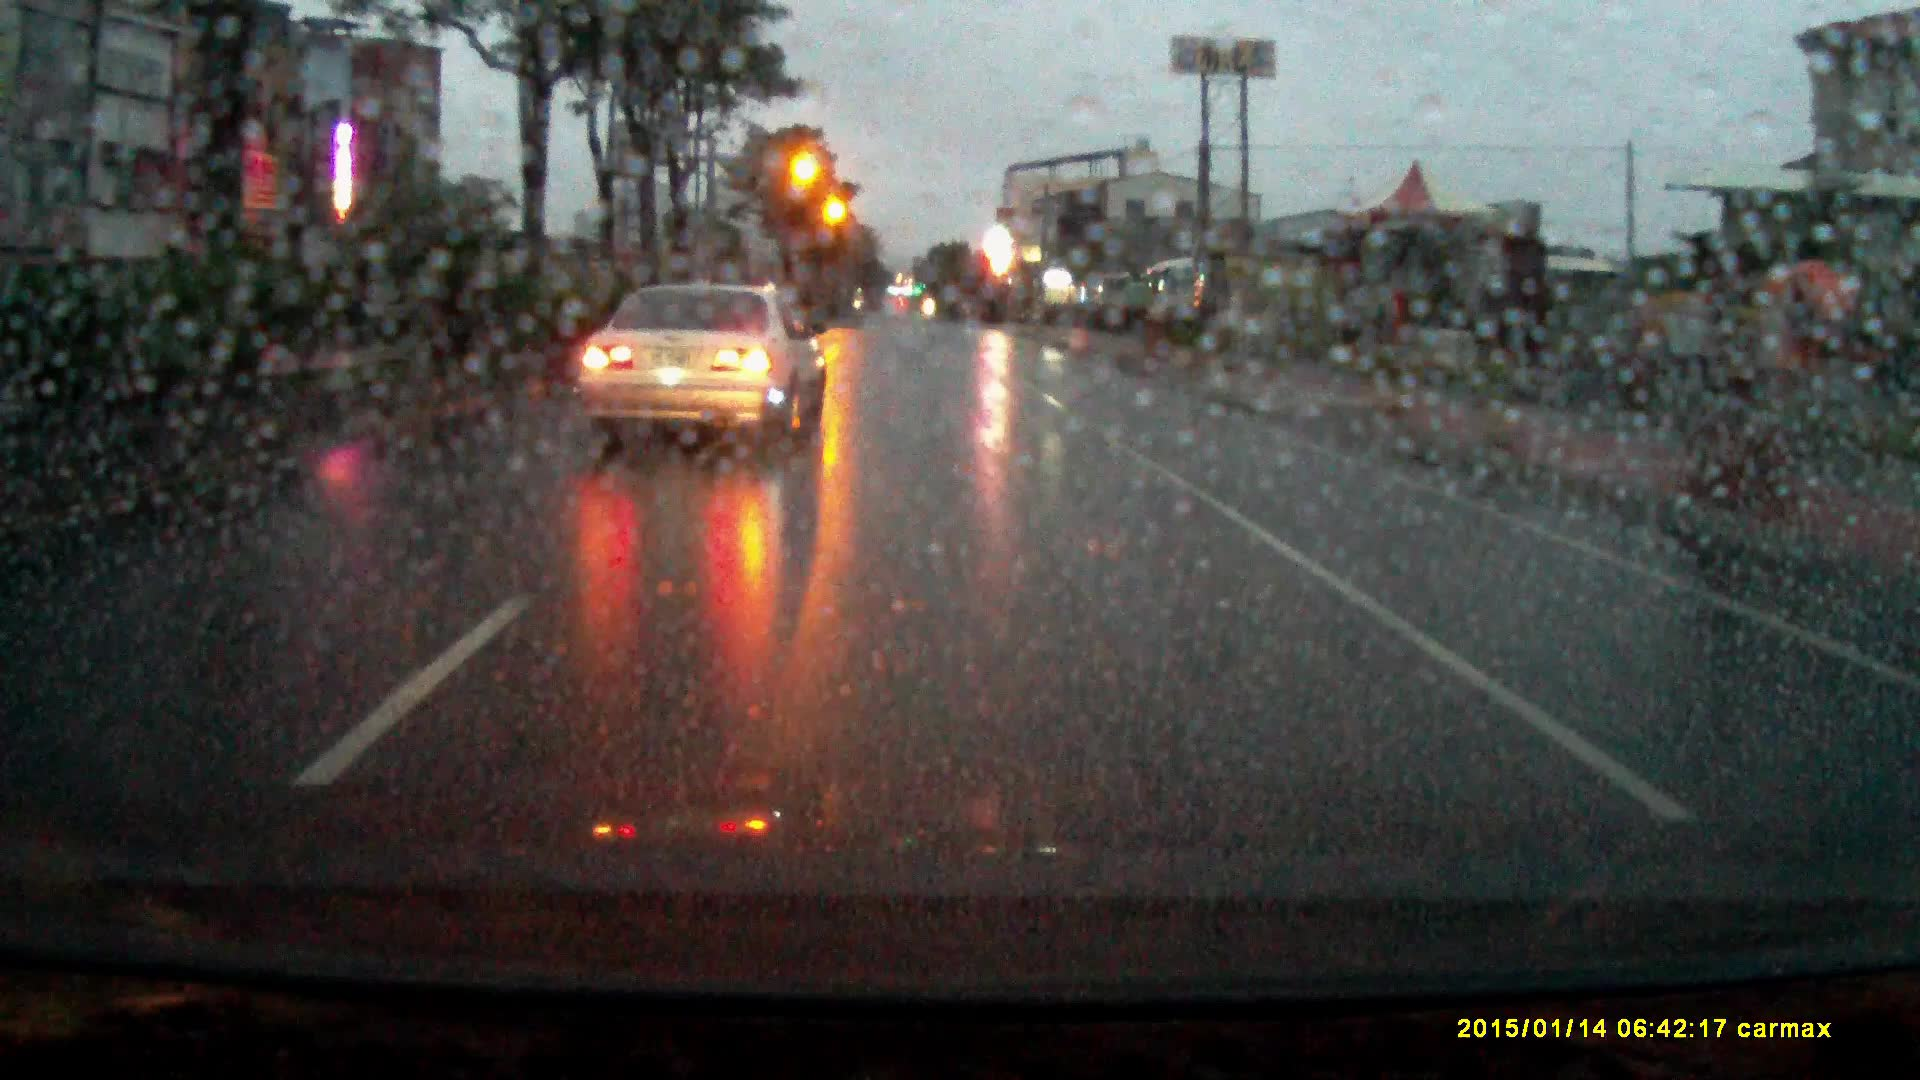pedestrian: (1754, 261, 1858, 510)
vehicle: (569, 287, 833, 462), (1088, 276, 1139, 317)
